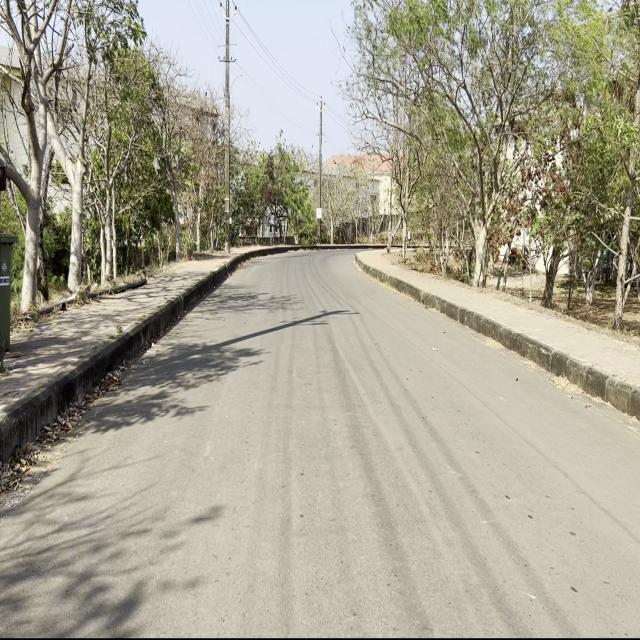Road: (4, 256, 637, 634)
